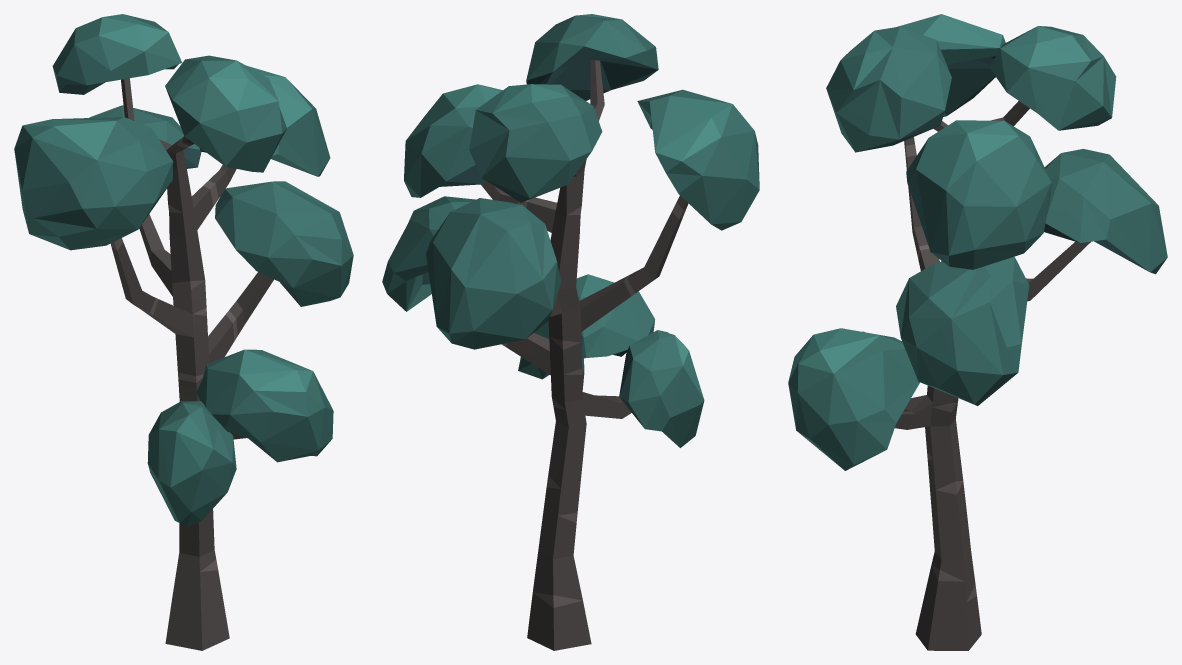
Rendered from SM_Env_TreeBirch_02.fbx.
The picture shows the model from 3 angles, left to right: view 1: azimuth 30°, elevation 25°; view 2: azimuth 150°, elevation 25°; view 3: azimuth 270°, elevation 25°; orthographic projection.
Parts seen in each view (by area): view 1: SM_Env_TreeBirch_02; view 2: SM_Env_TreeBirch_02; view 3: SM_Env_TreeBirch_02.
Boxes of the visible parts, x1,y1,x2,y2 form: SM_Env_TreeBirch_02: (14,14,353,650); SM_Env_TreeBirch_02: (382,14,759,650); SM_Env_TreeBirch_02: (788,14,1167,650).
Size of the model in its own units: 0.0388 by 0.0658 by 0.0375.
1 material, 1 textured.
